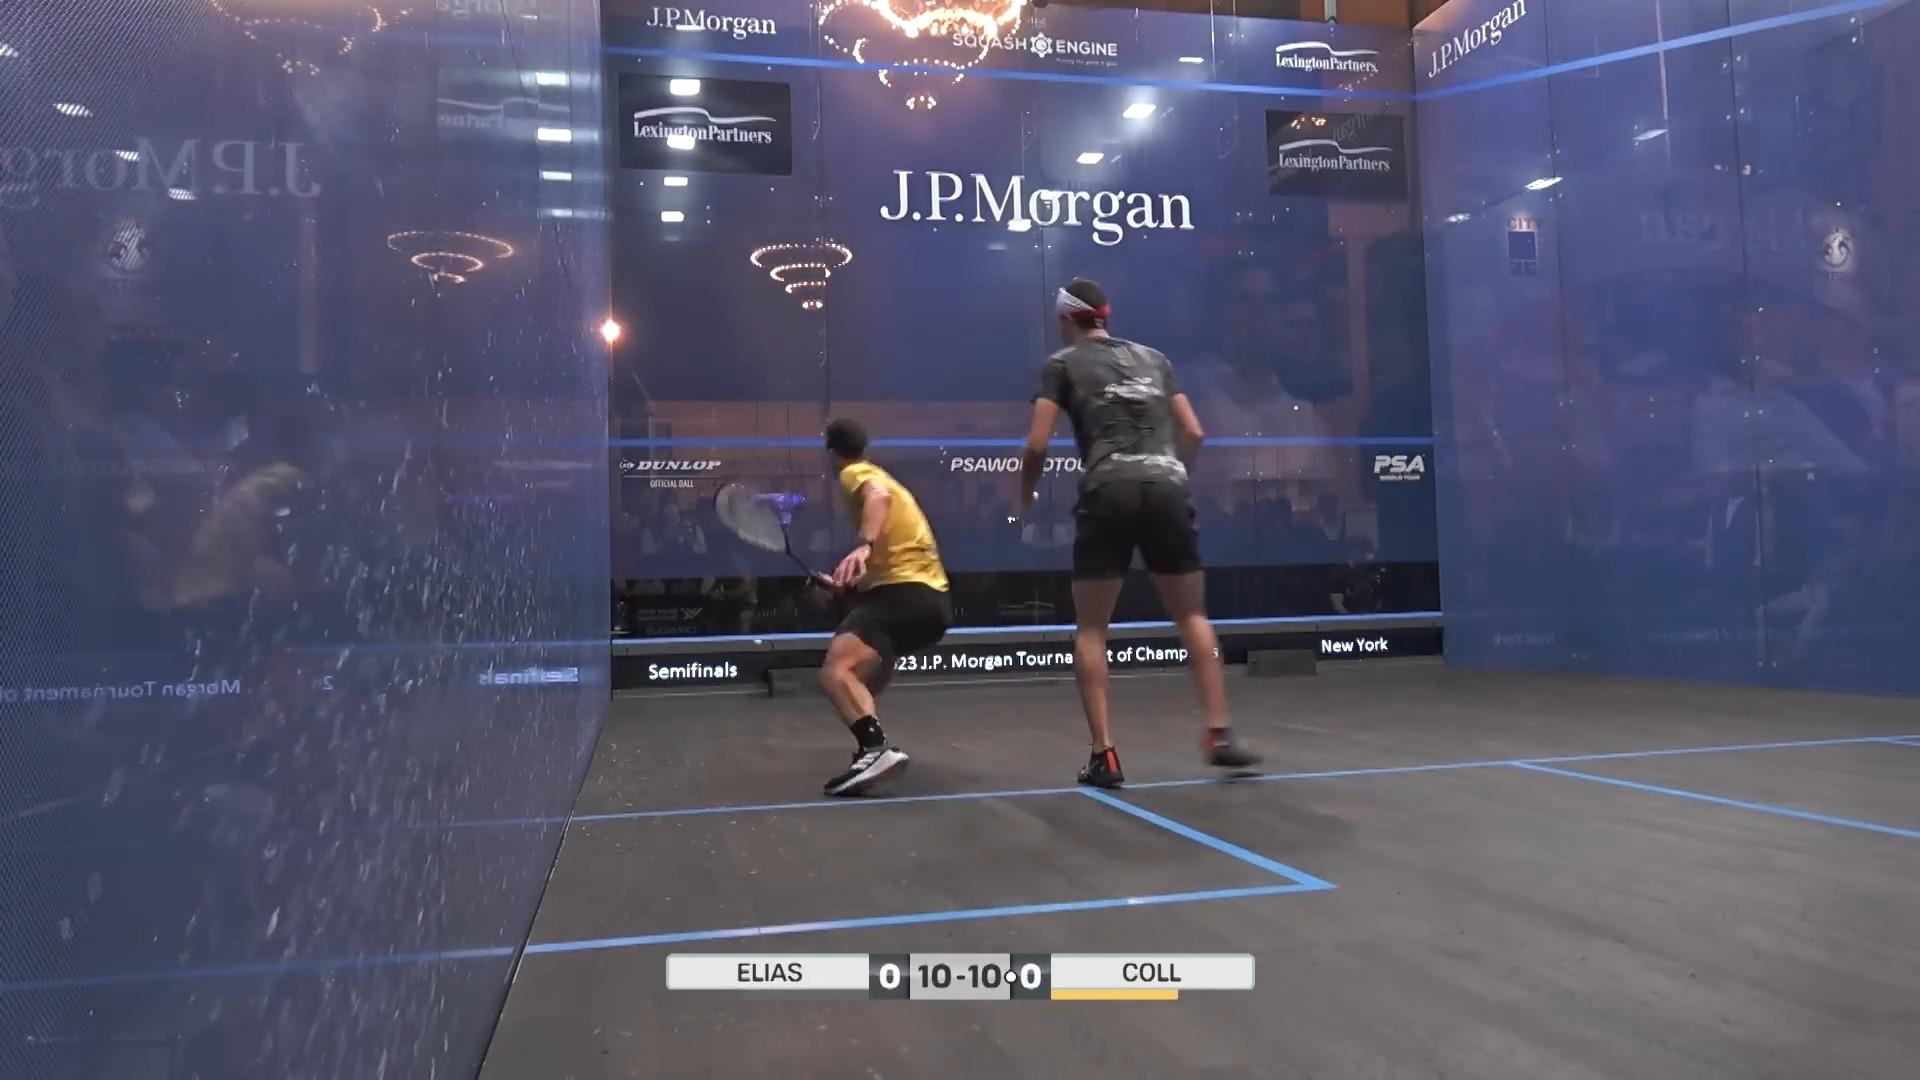Racket: (707, 433, 820, 571)
